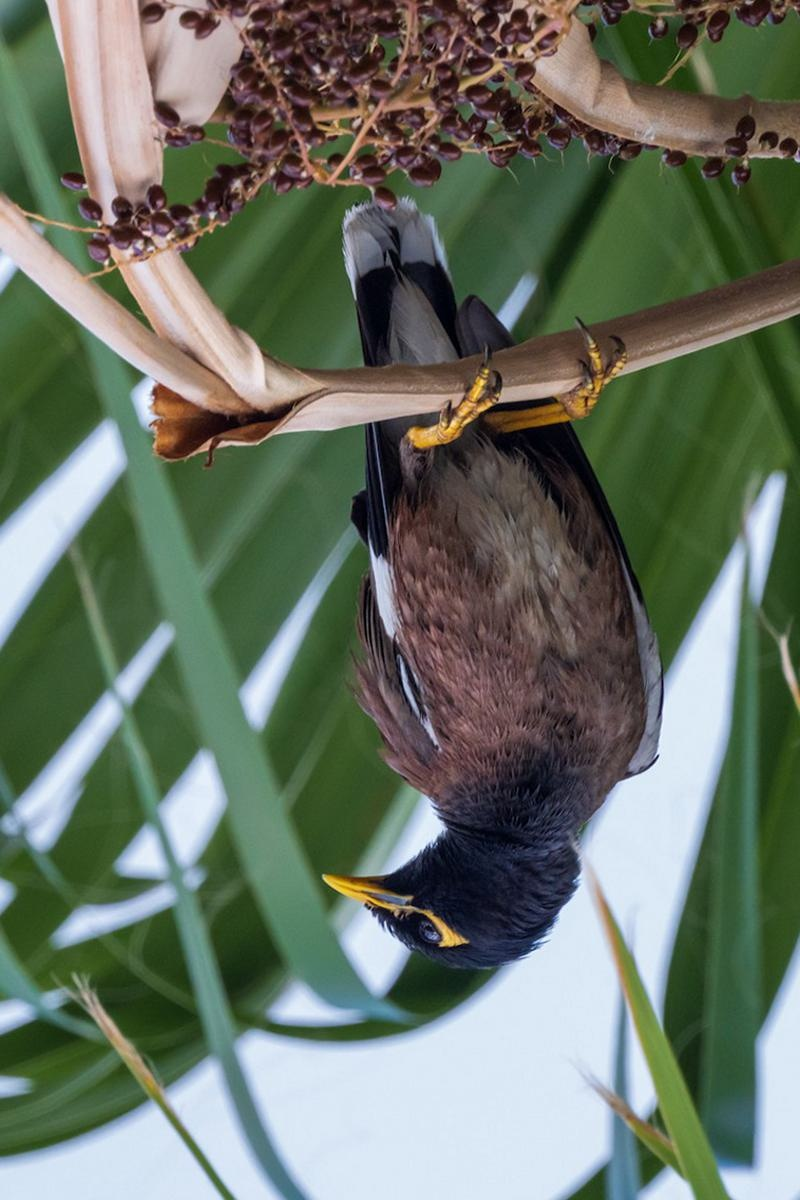myna: (251, 249, 693, 1022)
